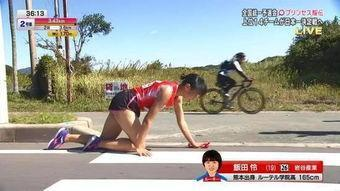Fall-Detected: (36, 66, 216, 157)
